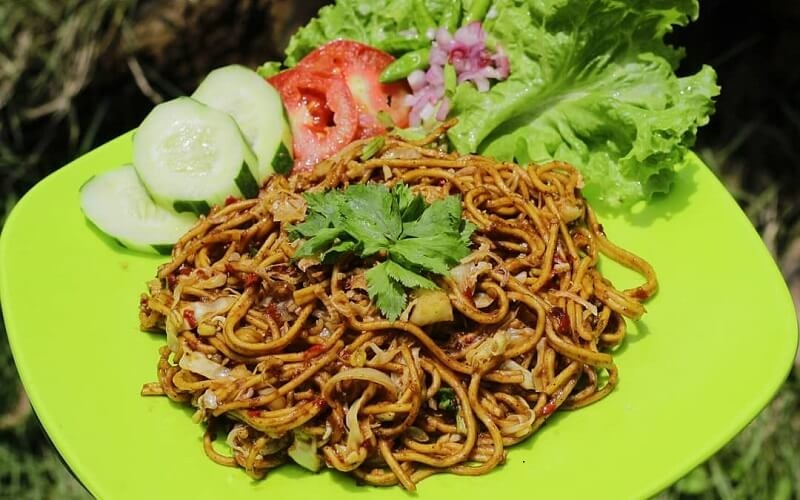mie_aceh: (151, 154, 660, 494)
